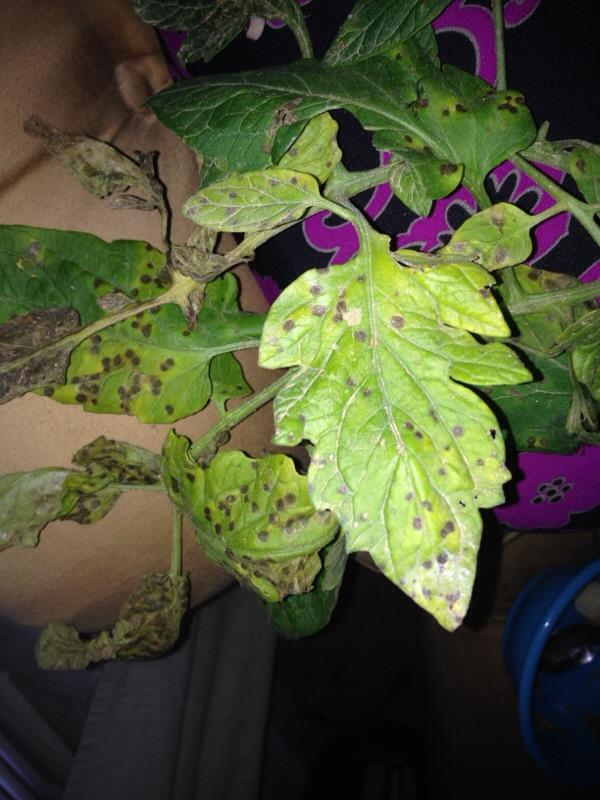Tomato Septoria leaf spot: (264, 240, 531, 644), (147, 51, 567, 198), (143, 431, 356, 603), (49, 297, 225, 425), (150, 168, 333, 247), (437, 205, 555, 277)
